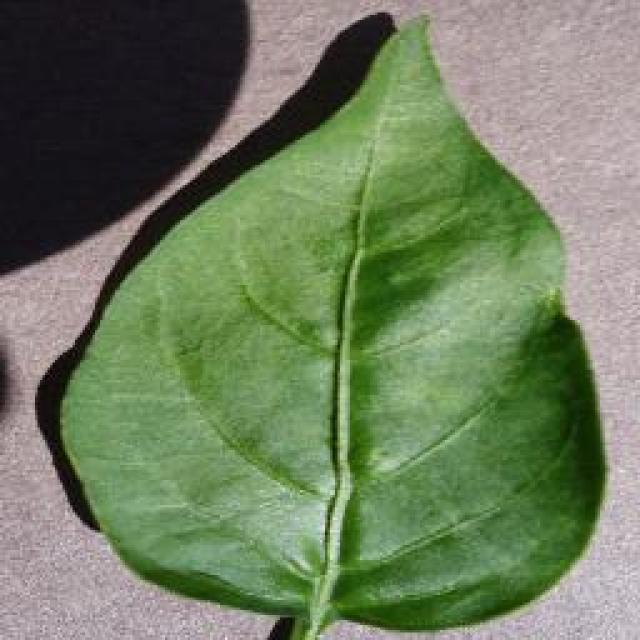Leaf: (91, 8, 619, 620)
